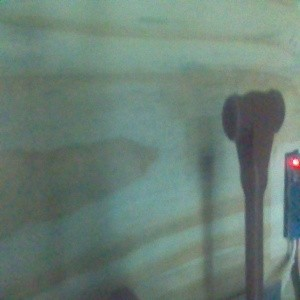palu: (220, 87, 286, 300)
